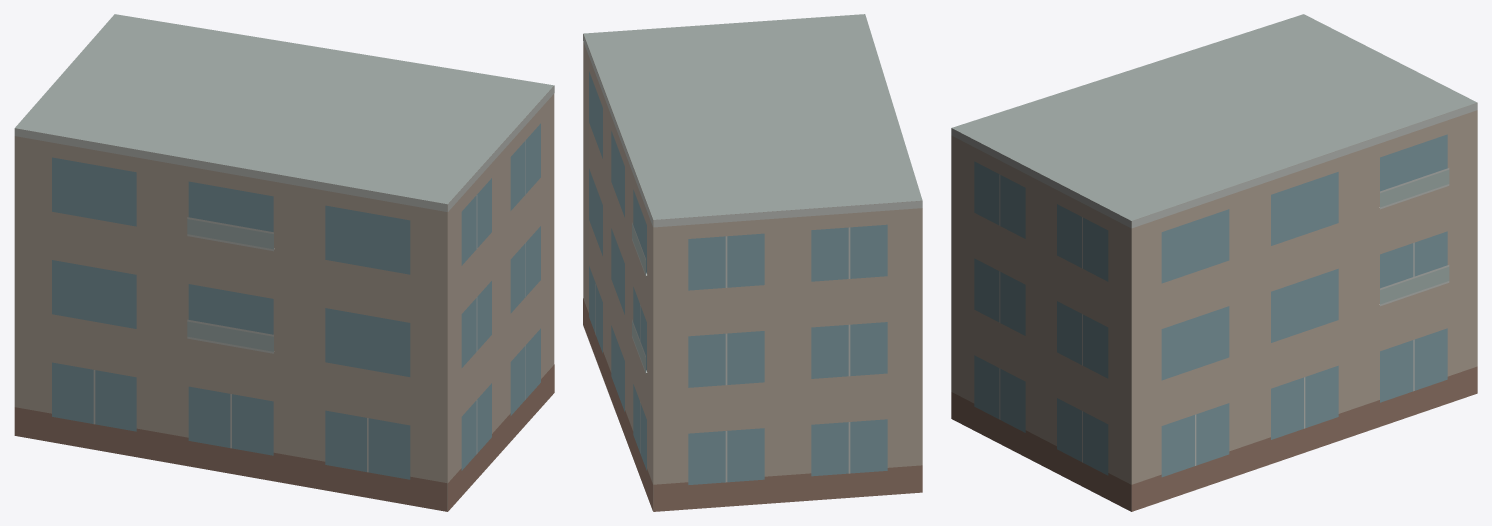
The model's file is survey-upis-32637138.glb.
3 views of the same model, side by side, from view 1: azimuth 30°, elevation 25°; view 2: azimuth 150°, elevation 25°; view 3: azimuth 270°, elevation 25° (orthographic). The views are drawn at different scales.
Visible parts, largest first — view 1: survey-upis-32637138.tmp; view 2: survey-upis-32637138.tmp; view 3: survey-upis-32637138.tmp.
Part boxes in pixels (x1,y1,x2,y2): survey-upis-32637138.tmp: [14, 14, 554, 511]; survey-upis-32637138.tmp: [583, 14, 922, 511]; survey-upis-32637138.tmp: [951, 14, 1477, 511].
Bounding box in the file's own units: 14.51 × 9.5 × 15.59.
